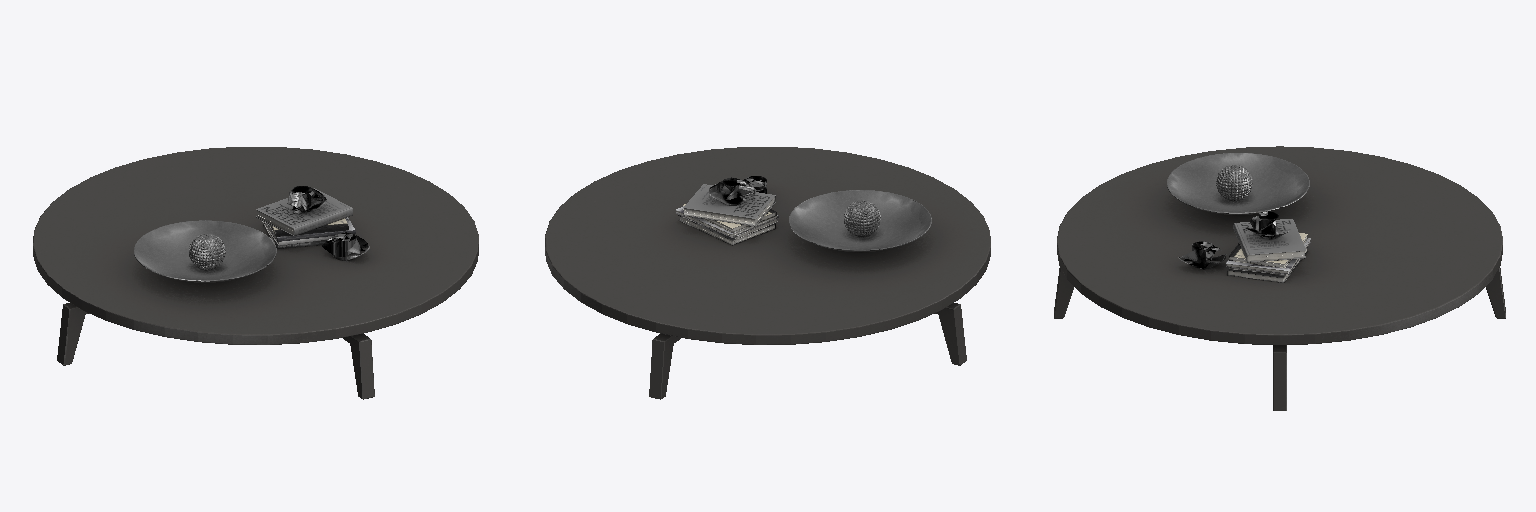
The picture shows the model from 3 angles: view 1: azimuth 30°, elevation 25°; view 2: azimuth 150°, elevation 25°; view 3: azimuth 270°, elevation 25°; orthographic projection.
Parts seen in each view (by area): view 1: solid_009, solid_001, solid_007; view 2: solid_009, solid_001, solid_007, solid_003, solid_008; view 3: solid_009, solid_001, solid_007, solid_003.
Boxes of the visible parts, x1=… form: solid_009: x1=33, y1=147, x2=478, y2=399; solid_001: x1=134, y1=186, x2=369, y2=282; solid_007: x1=256, y1=188, x2=352, y2=235; solid_009: x1=545, y1=147, x2=990, y2=399; solid_001: x1=709, y1=176, x2=931, y2=251; solid_007: x1=683, y1=184, x2=775, y2=226; solid_003: x1=676, y1=211, x2=777, y2=244; solid_008: x1=684, y1=197, x2=774, y2=225; solid_009: x1=1054, y1=146, x2=1505, y2=410; solid_001: x1=1167, y1=153, x2=1309, y2=269; solid_007: x1=1233, y1=219, x2=1305, y2=262; solid_003: x1=1226, y1=236, x2=1309, y2=282.
Bounding box in the file's own units: 1.58 × 0.4631 × 1.58.
Materials: 1 (1 with a texture image).